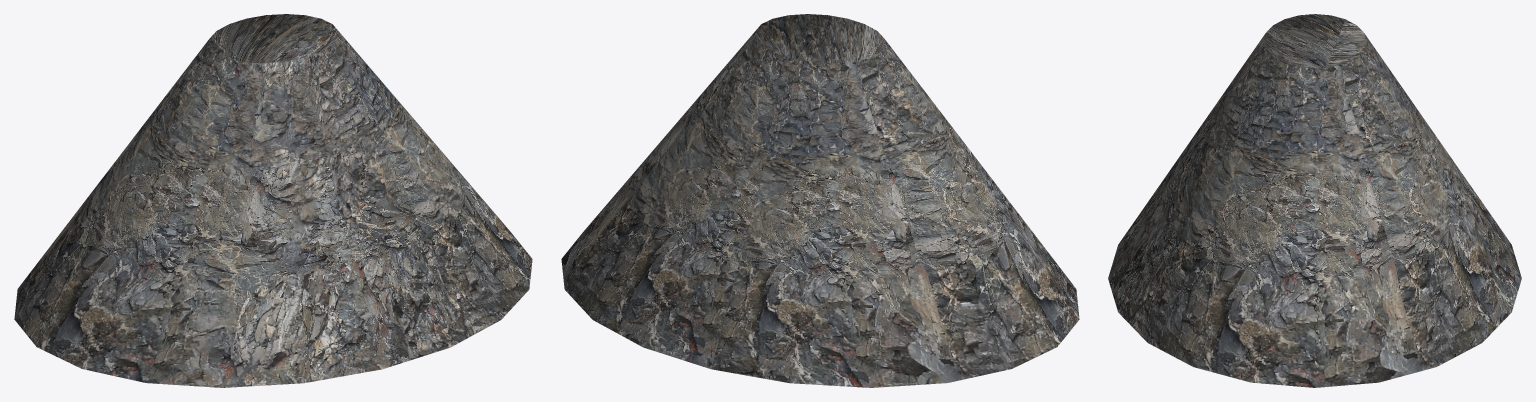
Rendered from Vulcano.fbx.
3 renders of one model, left to right at view 1: azimuth 30°, elevation 25°; view 2: azimuth 150°, elevation 25°; view 3: azimuth 270°, elevation 25°, orthographic. The views are drawn at different scales.
Visible parts, largest first — view 1: pCone1; view 2: pCone1; view 3: pCone1.
Part boxes in pixels (<box>): pCone1: <box>14,14,532,387</box>; pCone1: <box>561,14,1079,387</box>; pCone1: <box>1108,14,1521,387</box>.
Size of the model in its own units: 5.51 by 2.79 by 4.41.
1 material, 1 textured.
